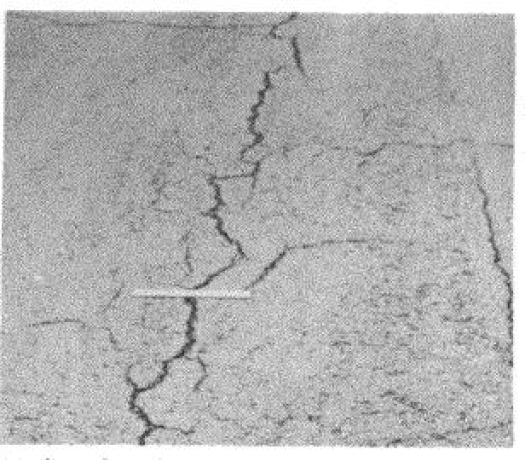Retak Melintang: (211, 12, 311, 232), (156, 180, 254, 369), (447, 88, 513, 359), (112, 310, 216, 442)
